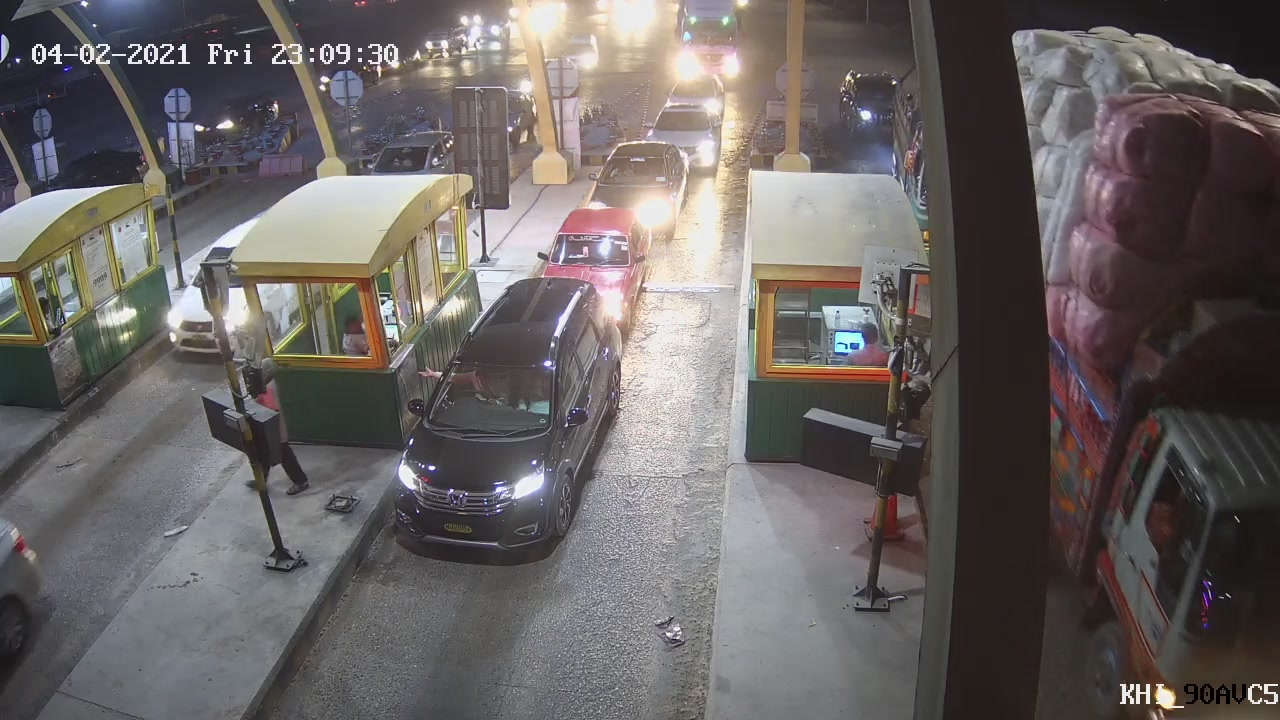F1: (380, 270, 624, 556)
